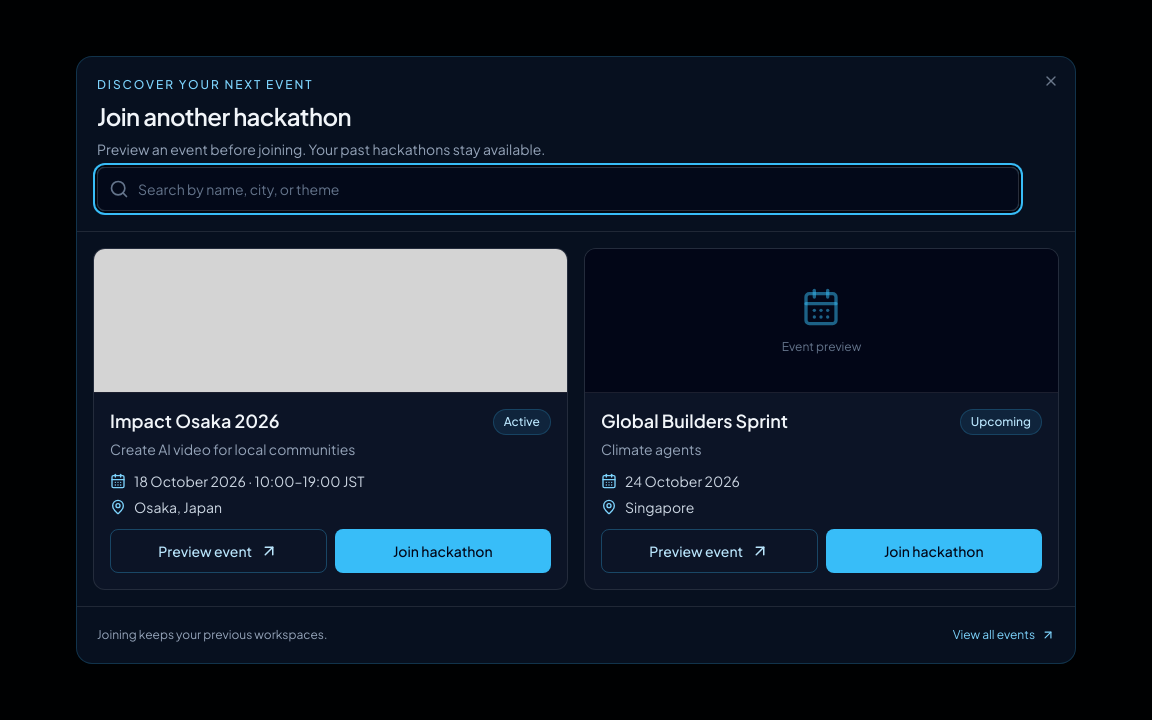
Test: hackathon discovery › filters by event name, location, or theme using Osaka
The image size is (1152, 720).
In the search field named "Search hackathons": (558,189) [97, 167, 1019, 211], type "Osaka"
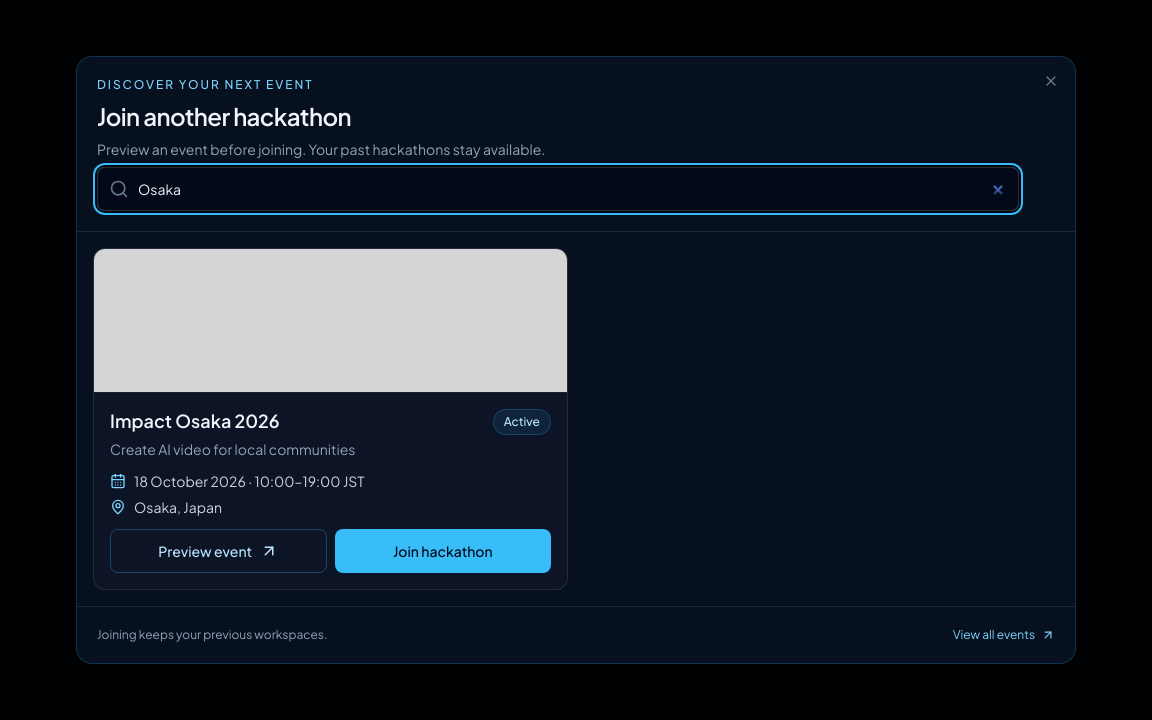
Expected: the element "Impact Osaka 2026" is shown, [93, 248, 568, 590]
Result: the heading "Global Builders Sprint" is gone
